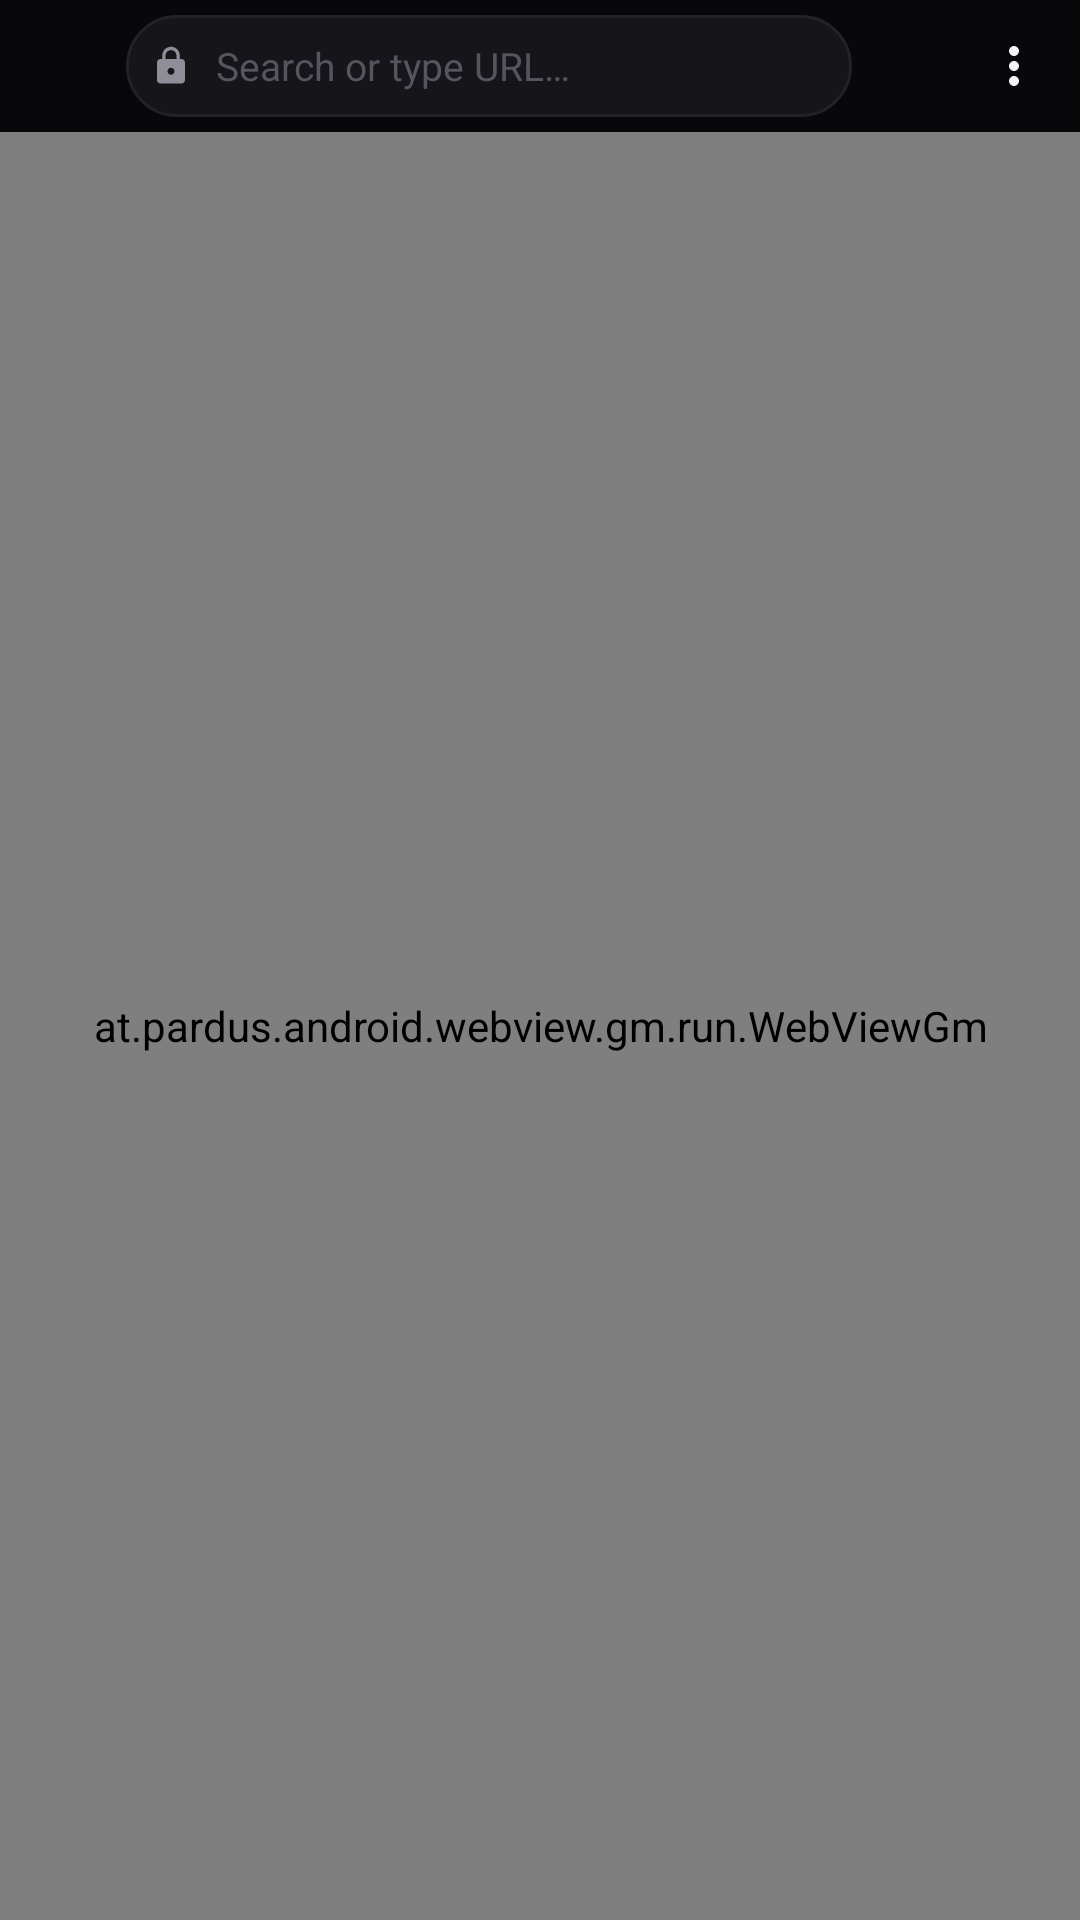

Where icons sit on this 1080px×1920px app screen, as (x1, y1, x2, y2):
lock: (157, 46, 185, 84)
